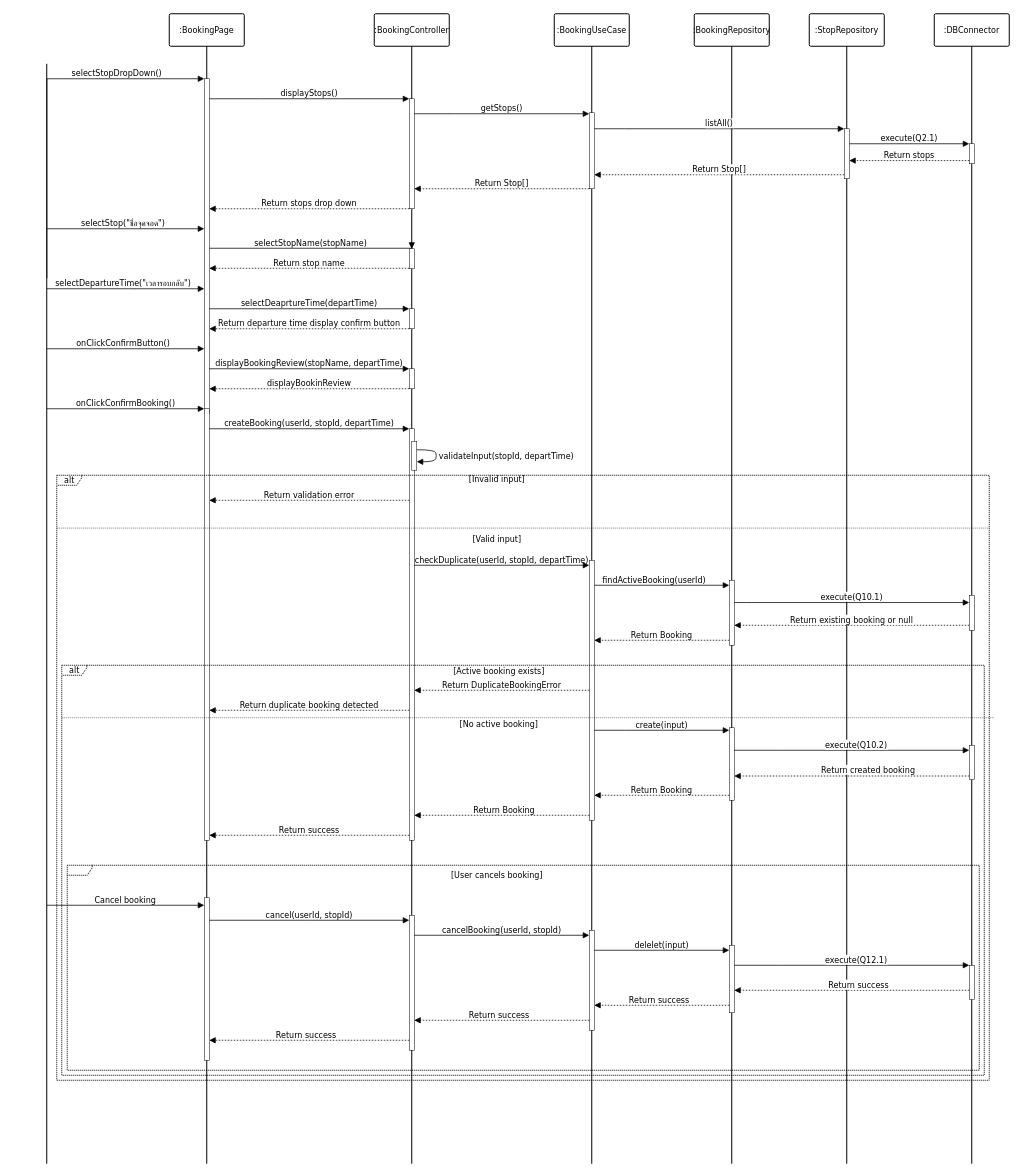
Image size: 1018x1173. Some labels were removed from this diagram. The shapes that lost their labels are listed below. From the top down, each one's centre as x and y in pixels, then its label:
At point (46, 591): "Employee".
At point (523, 967): "opt".
